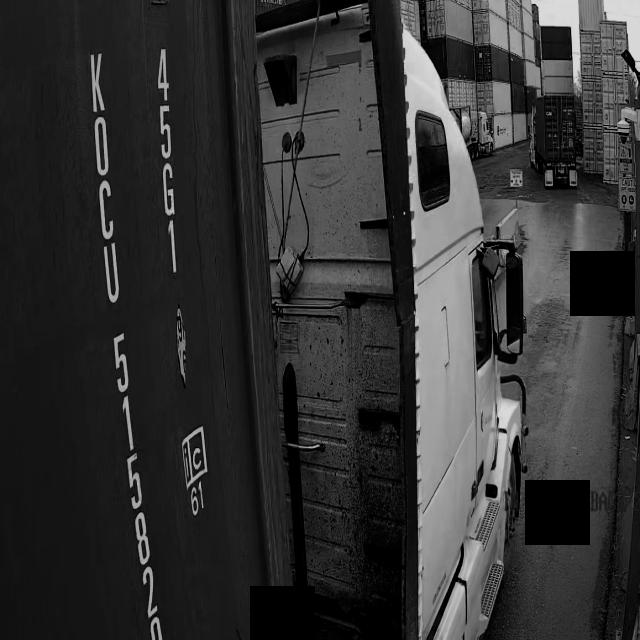container_side_no: (82, 29, 179, 640)
truck_with_container: (0, 0, 526, 640)
